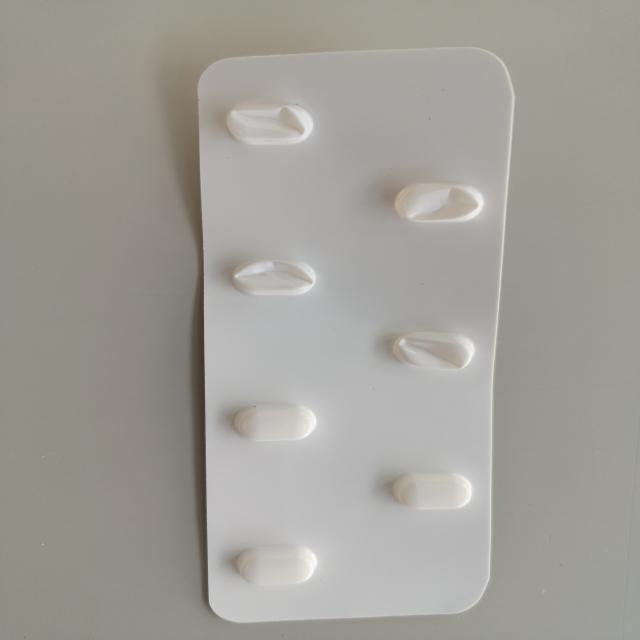Empty: (215, 248, 336, 304), (383, 176, 497, 232), (376, 321, 486, 379), (213, 95, 325, 150)
Pill: (220, 539, 334, 595), (224, 395, 327, 452), (376, 466, 484, 519)
